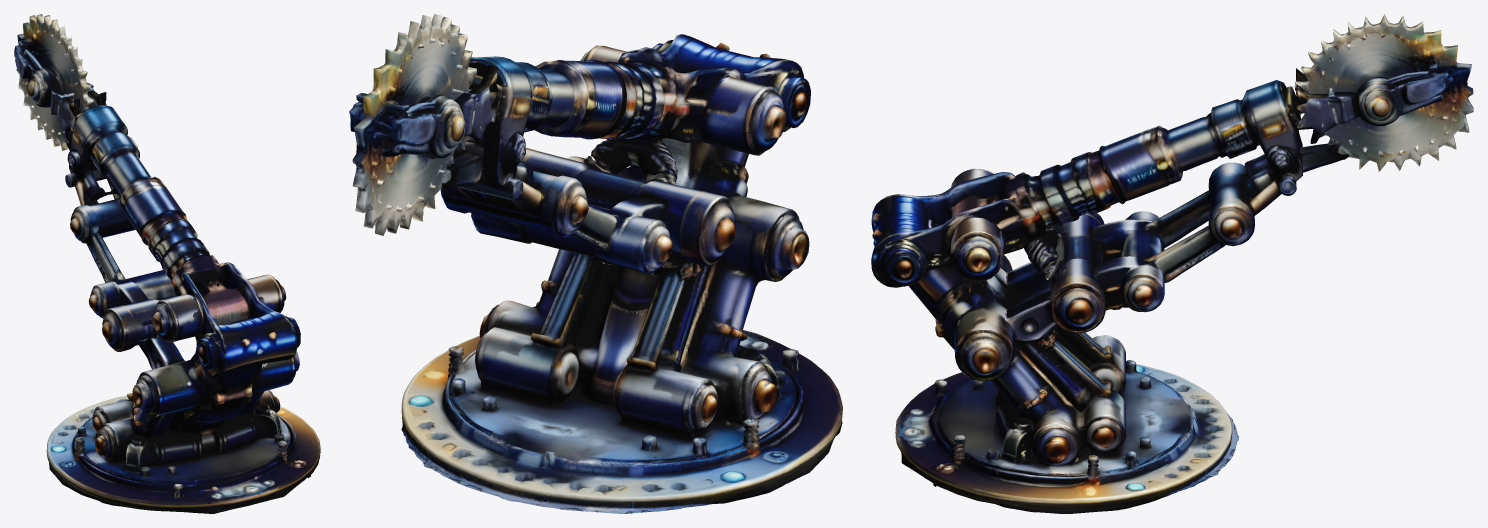
Rendered from saw-updated.fbx.
3 views of the same model, side by side, from view 1: azimuth 30°, elevation 25°; view 2: azimuth 150°, elevation 25°; view 3: azimuth 270°, elevation 25° (orthographic). The views are drawn at different scales.
Parts seen in each view (by area): view 1: tripo_node_9842395e; view 2: tripo_node_9842395e; view 3: tripo_node_9842395e.
Boxes of the visible parts, x1=… form: tripo_node_9842395e: x1=14, y1=14, x2=320, y2=513; tripo_node_9842395e: x1=349, y1=14, x2=842, y2=513; tripo_node_9842395e: x1=871, y1=14, x2=1473, y2=513.
Bounding box in the file's own units: 0.5654 × 0.7823 × 0.9997.
1 material, 1 textured.
